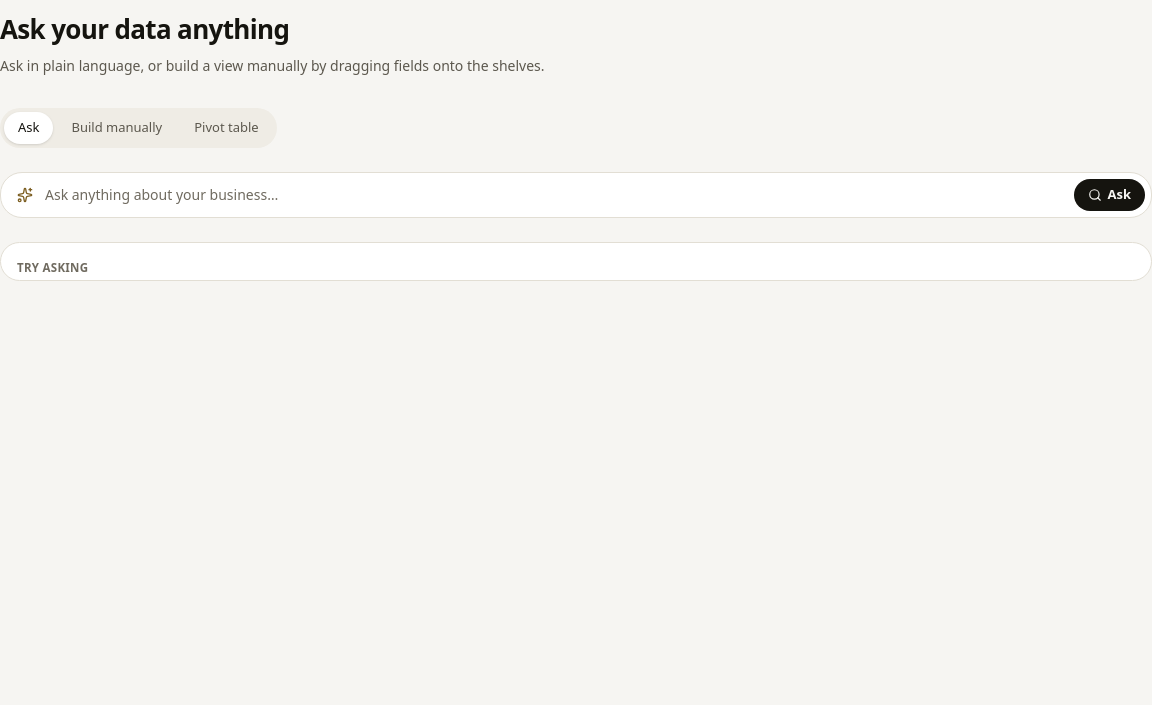
Test case: ExplorePage › lets an asked question be edited and rerun in place, replacing that turn rather than adding a new one
In the field with placeholder "Ask anything about your business…": (553, 195) x1=45 y1=179 x2=1062 y2=211, type "How has net revenue trended over the last 12 weeks?"
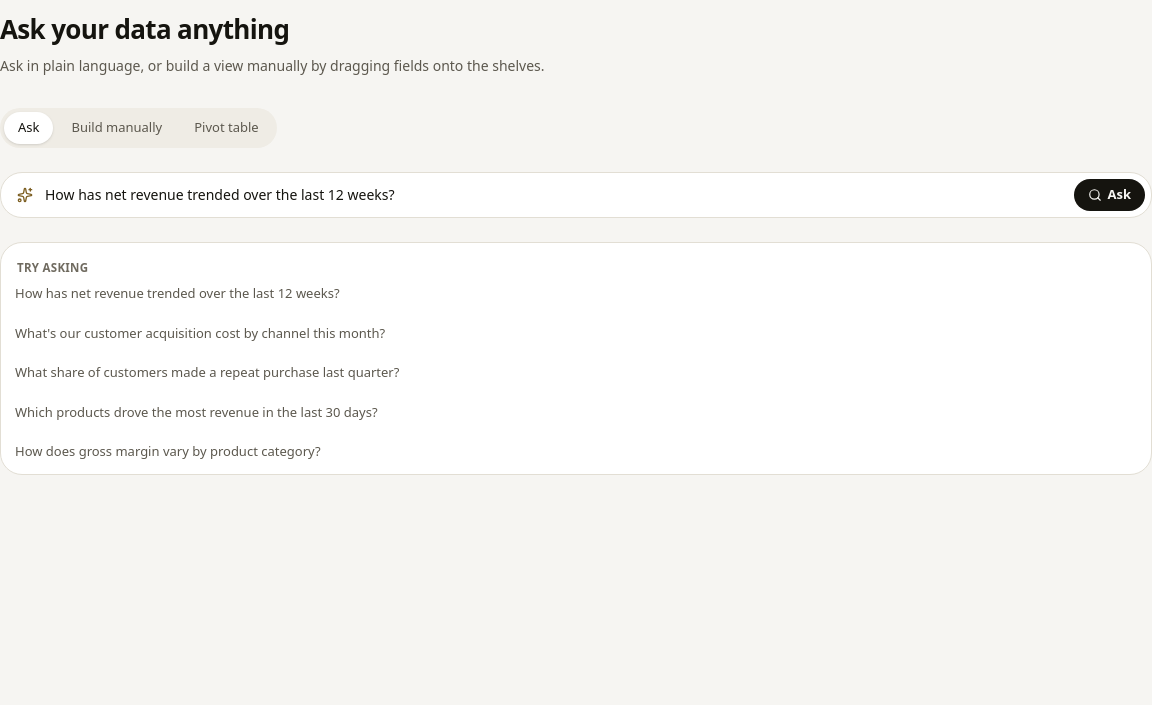
Click the button "Ask": (1109, 195) x1=1074 y1=179 x2=1145 y2=211
(page scrolled)
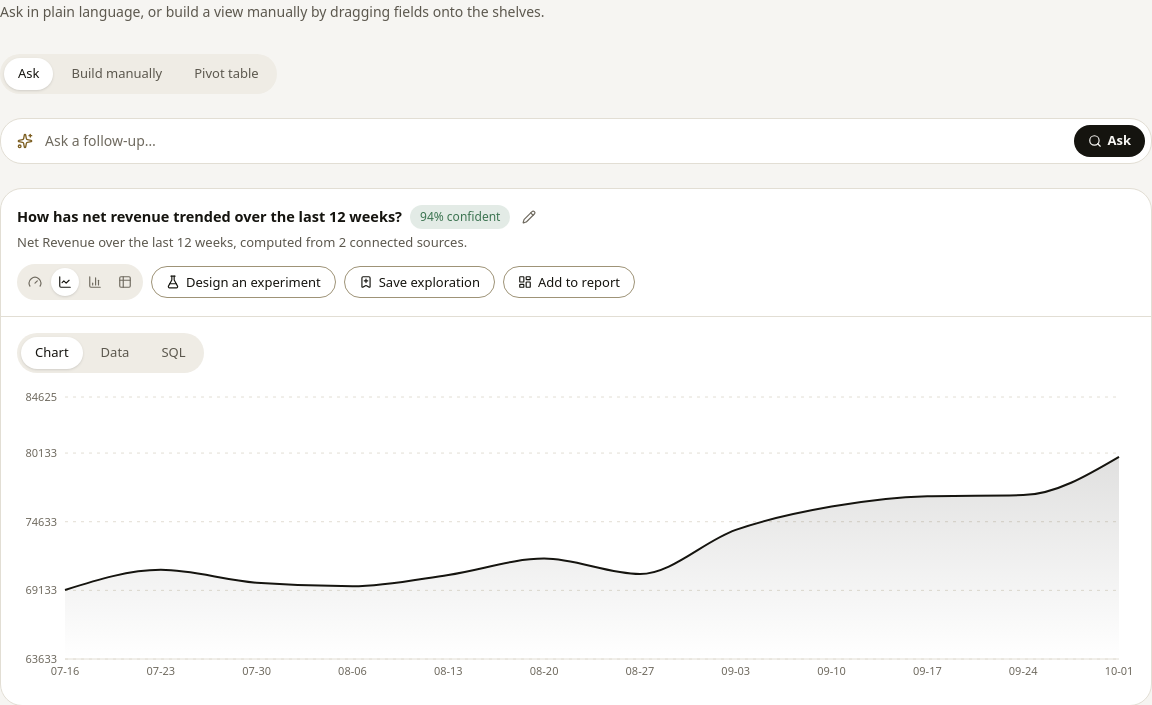
Result: the heading "How has net revenue trended over the last 12 weeks?" is shown at x1=17 y1=206 x2=402 y2=228
Click the button named "Edit question": (529, 217) x1=518 y1=206 x2=540 y2=228
(page scrolled)
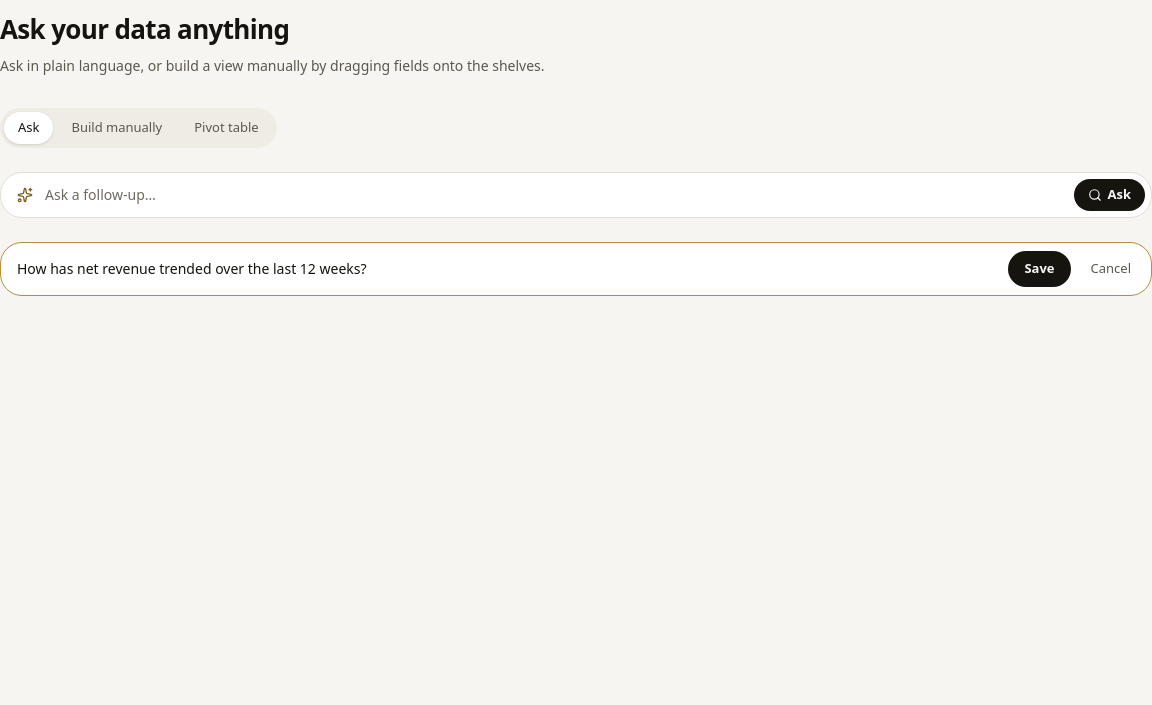
Replace the text in the field showing "How has net revenue trended over the last 12 weeks?" with "what's our cac looking like": (509, 269) x1=17 y1=251 x2=1000 y2=287
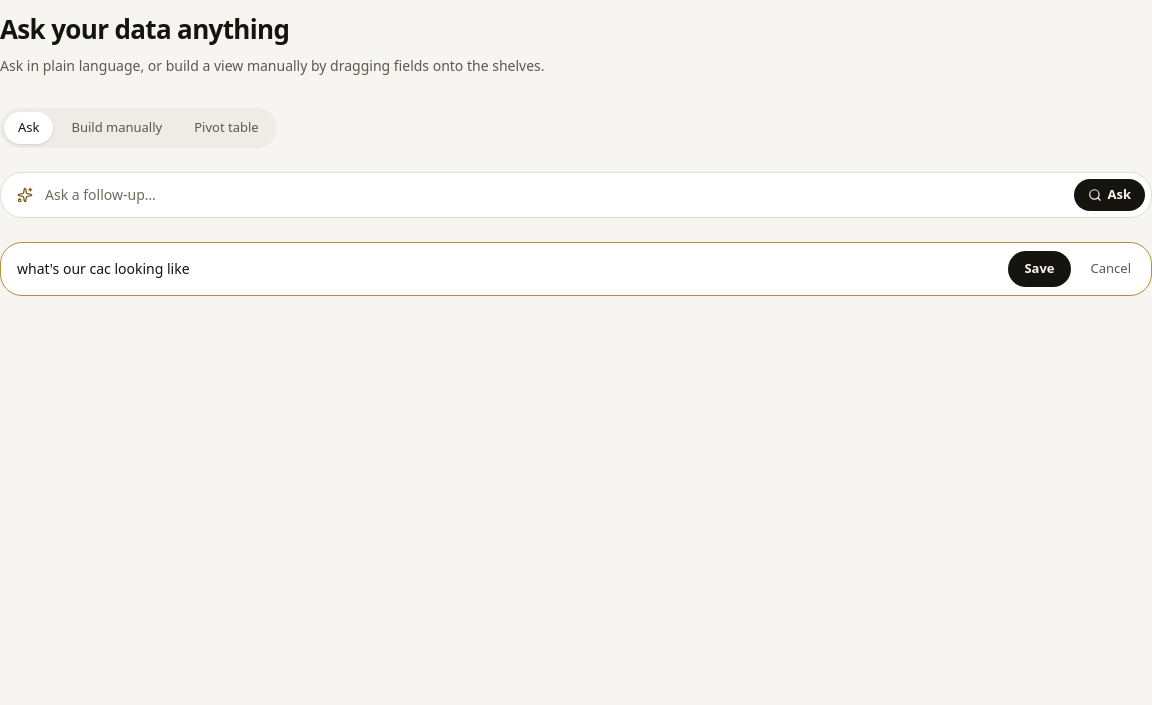
Click the button "Save": (1039, 269) x1=1008 y1=251 x2=1070 y2=287
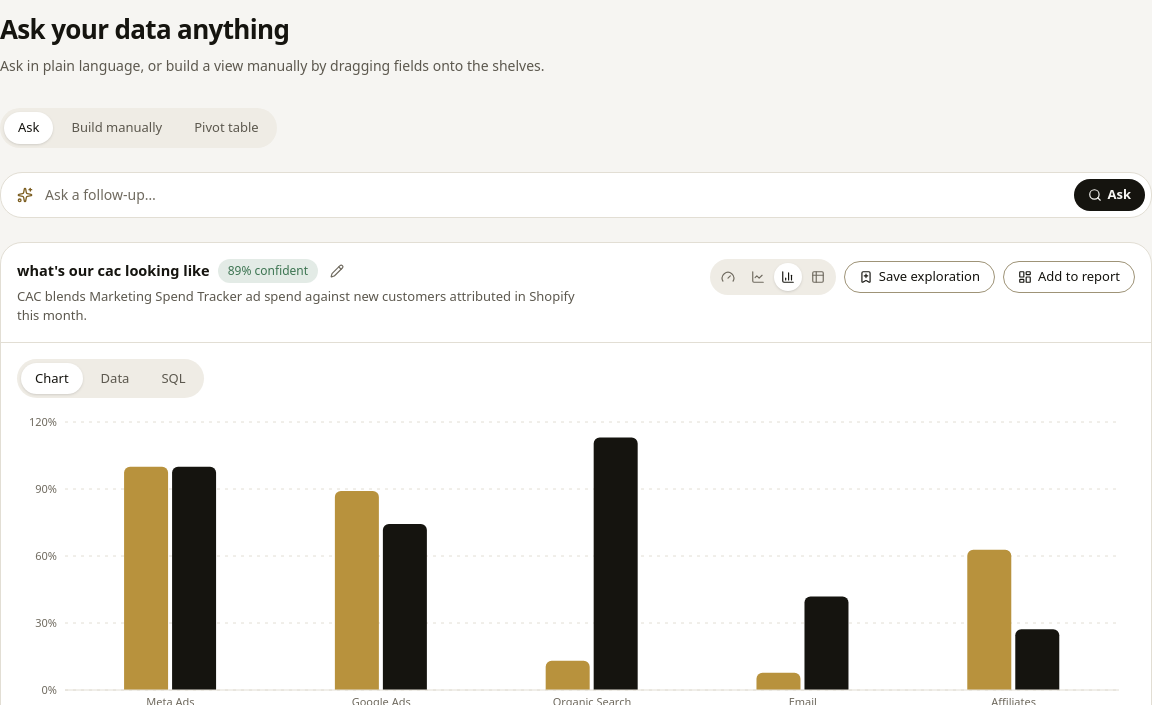
Expected: the heading "How has net revenue trended over the last 12 weeks?" is not shown
Result: the heading "what's our cac looking like" is shown at x1=17 y1=260 x2=210 y2=282
